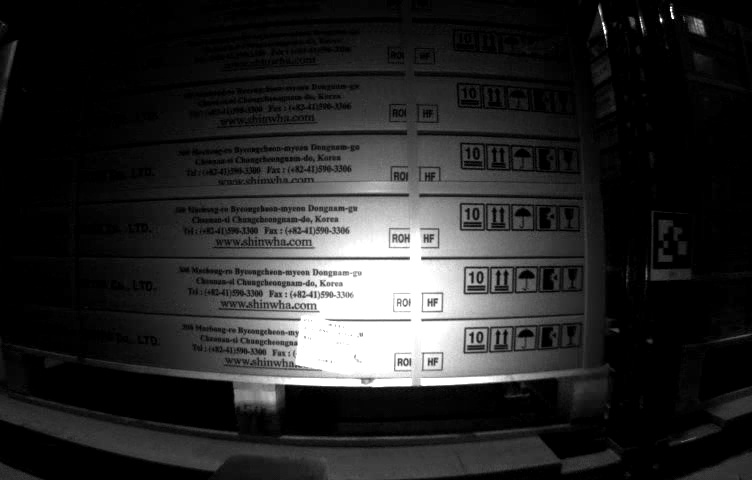True Barcode: (296, 314, 357, 373)
